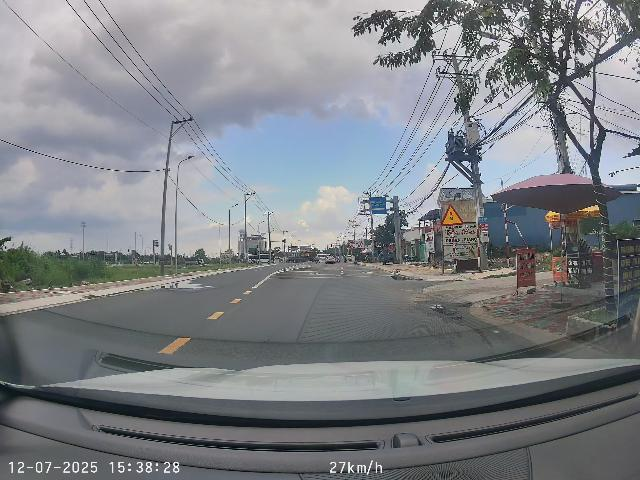209-giao-nhau-co-tin-hieu-den: (440, 204, 464, 226)
